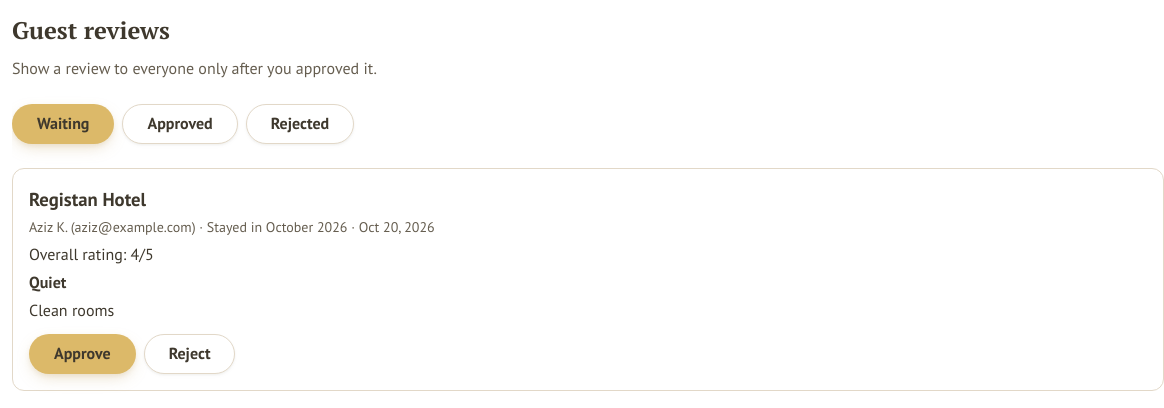
AdminReviewModeration › approves a waiting review and takes it off the list
The image size is (1164, 408).
Click the button "Approve" at (82, 354), box left=29, top=334, right=136, bottom=374
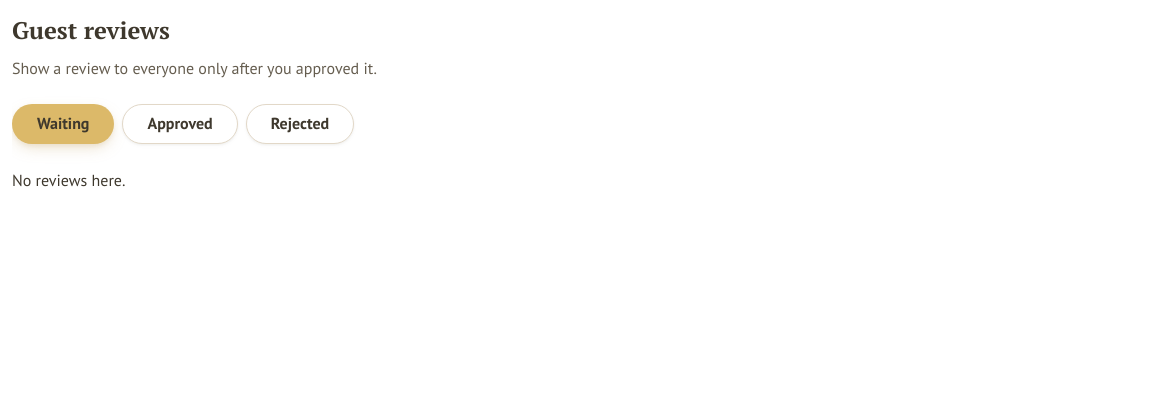
expect the heading "Registan Hotel" is gone: met
expect the text "No reviews here." is shown: met, box left=12, top=170, right=125, bottom=190
